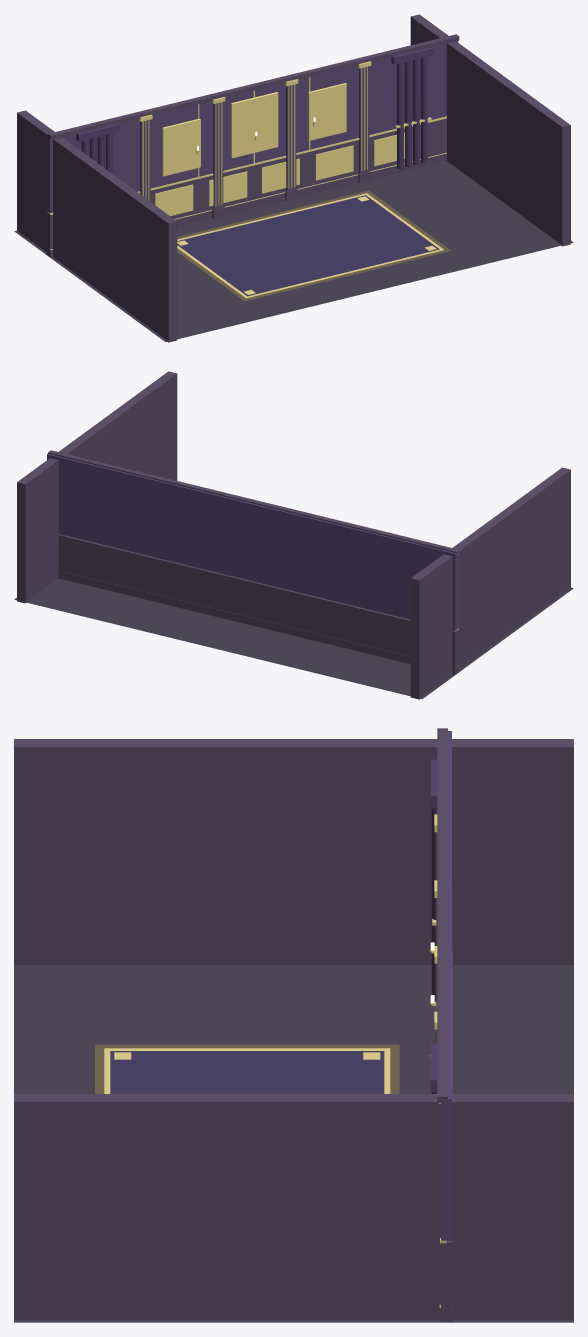
Rendered from room_barao_lounge.glb.
The picture shows the model from 3 angles, top to bottom: view 1: azimuth 30°, elevation 25°; view 2: azimuth 150°, elevation 25°; view 3: azimuth 270°, elevation 25°; orthographic projection. The views are drawn at different scales.
Visible parts, largest first — view 1: Floor.005, SideWall_Left.005, SideWall_Right.005, ClubRug_Inner.005, BackWall_Upper.005, BackWall_Lower.005, CrownMolding.005, FrameOuter_CenterGrandArt.005, ClubRug_Outer.005, FrameOuter_RightArt.005, FrameOuter_LeftArt.005, Baseboard.005 (+15 smaller); view 2: BackWall_Upper.005, SideWall_Left.005, BackWall_Lower.005, Floor.005, SideWall_Right.005, Baseboard.005, CrownMolding.005; view 3: SideWall_Right.005, SideWall_Left.005, Floor.005, ClubRug_Inner.005, CrownMolding.005, BackWall_Upper.005, ClubRug_Outer.005, ClubRug_Stripe.005, BackWall_Lower.005, DraperyFold_Left_3.005.
Part boxes in pixels (box(x1,y1,x2,y2)): Floor.005: box(14, 161, 573, 342); SideWall_Left.005: box(17, 110, 177, 342); SideWall_Right.005: box(410, 14, 570, 246); ClubRug_Inner.005: box(177, 195, 439, 296); BackWall_Upper.005: box(47, 41, 458, 212); BackWall_Lower.005: box(47, 118, 446, 249); CrownMolding.005: box(48, 34, 459, 139); FrameOuter_CenterGrandArt.005: box(231, 92, 278, 158); ClubRug_Outer.005: box(177, 190, 450, 301); FrameOuter_RightArt.005: box(308, 83, 346, 140); FrameOuter_LeftArt.005: box(162, 118, 200, 176); Baseboard.005: box(46, 153, 446, 257); BackWall_Upper.005: box(47, 453, 458, 630); SideWall_Left.005: box(410, 467, 570, 699); BackWall_Lower.005: box(58, 534, 458, 667); Floor.005: box(14, 578, 573, 699); SideWall_Right.005: box(17, 371, 177, 603); Baseboard.005: box(58, 570, 458, 674); CrownMolding.005: box(48, 450, 459, 553); SideWall_Right.005: box(14, 1094, 573, 1319); SideWall_Left.005: box(14, 739, 573, 964); Floor.005: box(14, 965, 573, 1322); ClubRug_Inner.005: box(110, 1051, 384, 1093); CrownMolding.005: box(437, 728, 447, 1104); BackWall_Upper.005: box(441, 731, 451, 1240); ClubRug_Outer.005: box(95, 1044, 399, 1093); ClubRug_Stripe.005: box(104, 1048, 390, 1093); BackWall_Lower.005: box(440, 885, 452, 1308); DraperyFold_Left_3.005: box(431, 809, 437, 1000).
Bounding box in the file's own units: 28 × 8.09 × 18.
